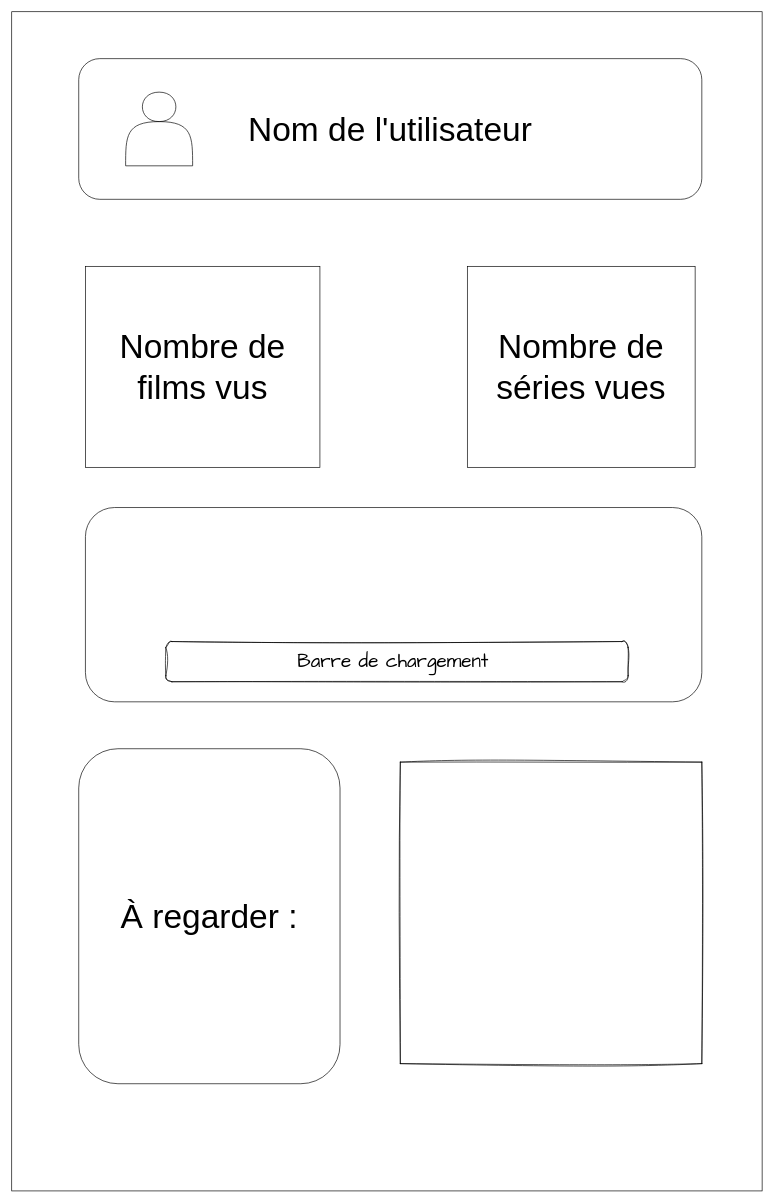
This 774x1203 diagram has some shape labels left out. The shapes that lost their labels are listed below. From the top down, each one's box as (x1, y1, x2, y2) in pixels, then its label:
(85, 507, 702, 702): "Vous avez visionné x heures du MCU
(400, 761, 702, 1064): Top 5 utilisateur
